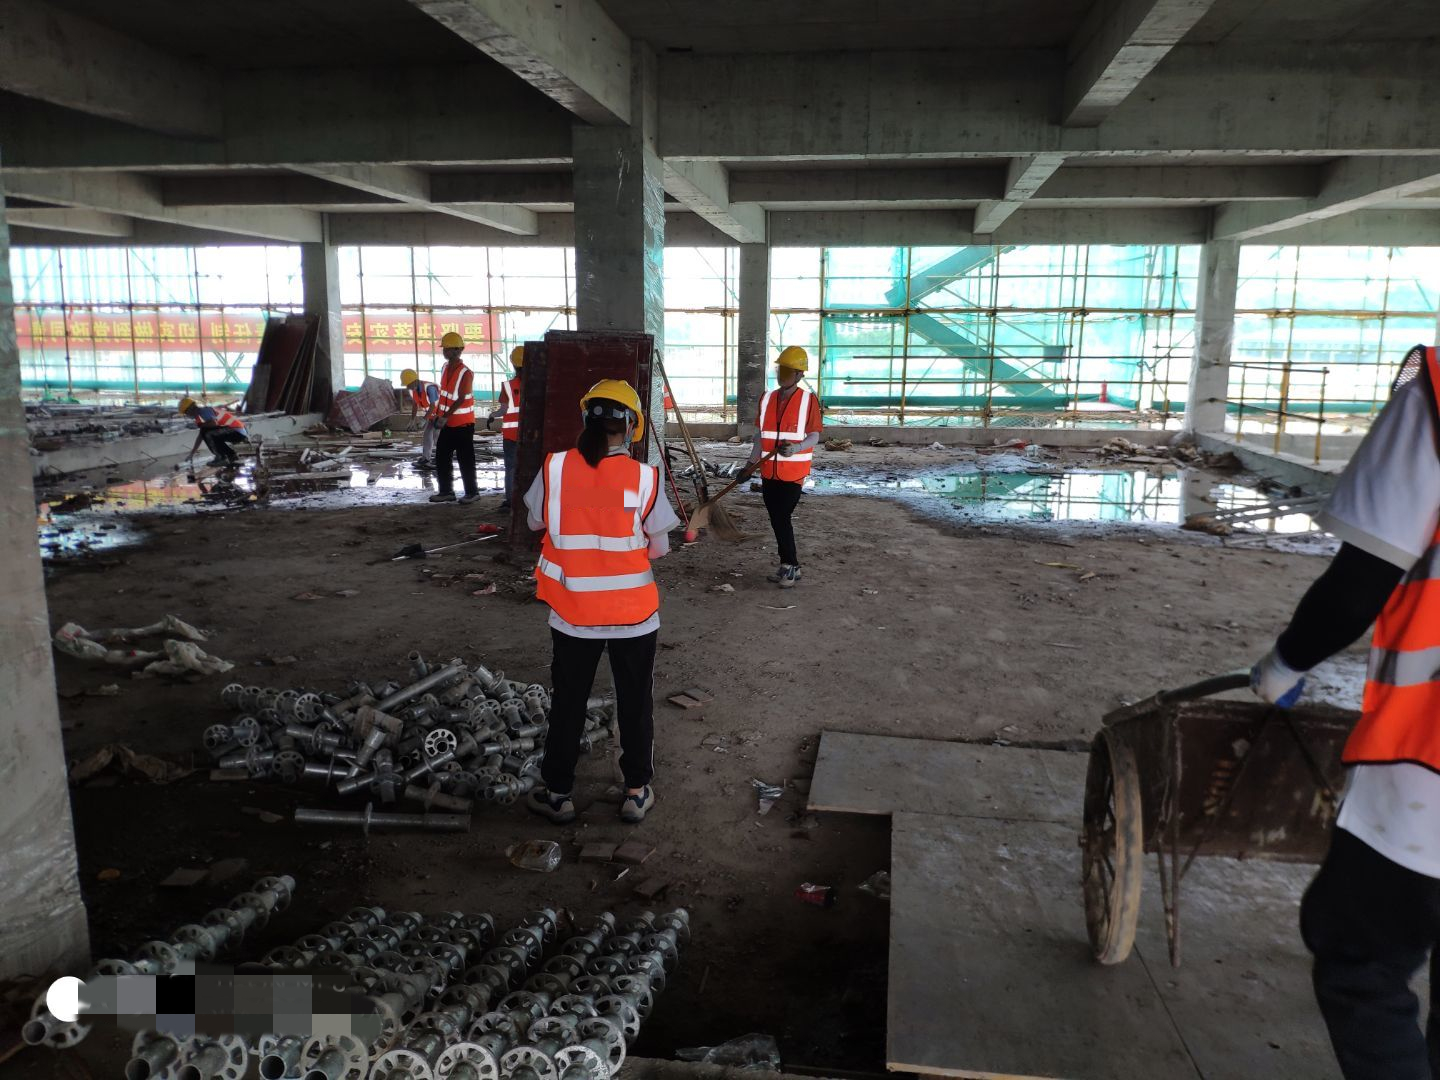helmet: (580, 376, 645, 415), (772, 344, 814, 375), (438, 333, 464, 354), (396, 368, 418, 390), (509, 345, 521, 367), (175, 399, 194, 412)
person: (1306, 342, 1440, 1080), (529, 370, 677, 825), (750, 343, 823, 588), (428, 333, 483, 501), (173, 396, 252, 467), (496, 342, 521, 478), (397, 367, 444, 420)
vest: (1365, 351, 1440, 752), (535, 448, 663, 636), (764, 382, 822, 492), (440, 362, 475, 431), (500, 377, 520, 443), (198, 408, 244, 434), (411, 385, 436, 414)
